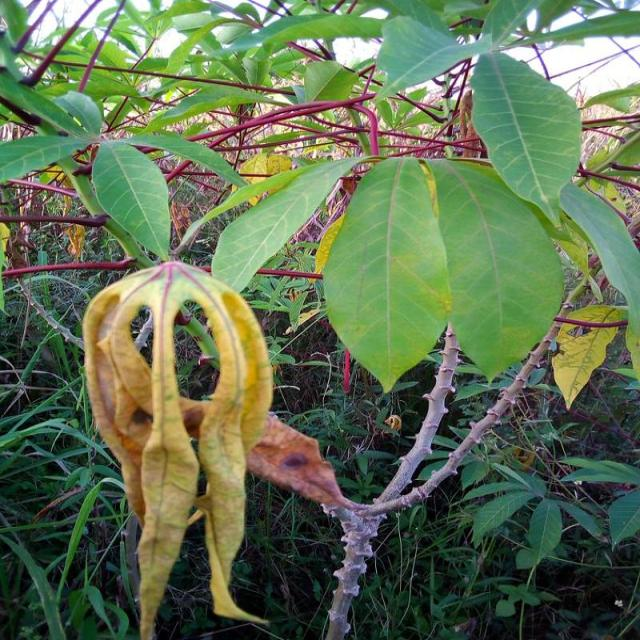cassava leaf: (80, 259, 274, 638), (418, 156, 564, 382), (322, 154, 452, 392), (210, 153, 360, 294), (468, 49, 582, 233), (558, 181, 639, 381), (90, 139, 172, 262), (550, 303, 628, 411)
